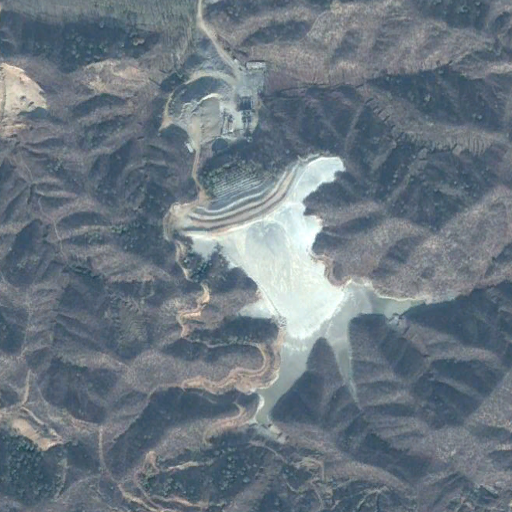tp: (167, 155, 426, 424)
